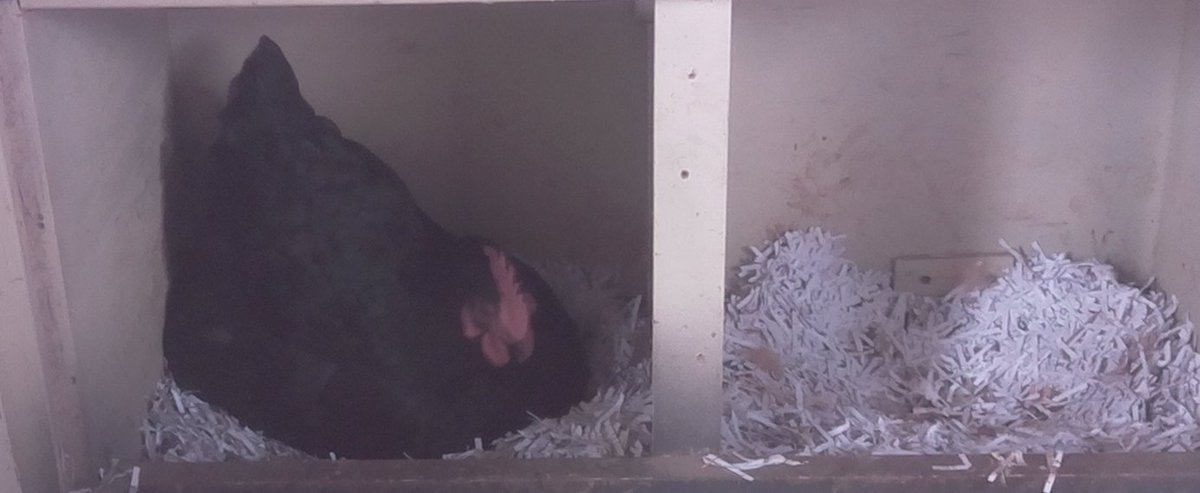hen: (167, 28, 605, 463)
